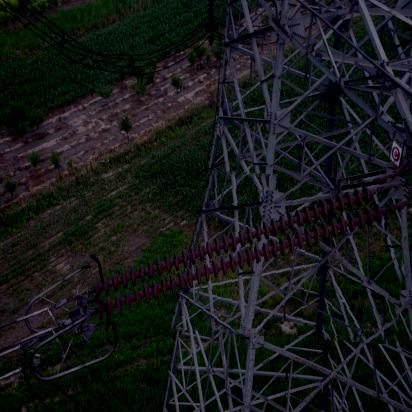insulator: (90, 169, 407, 342)
